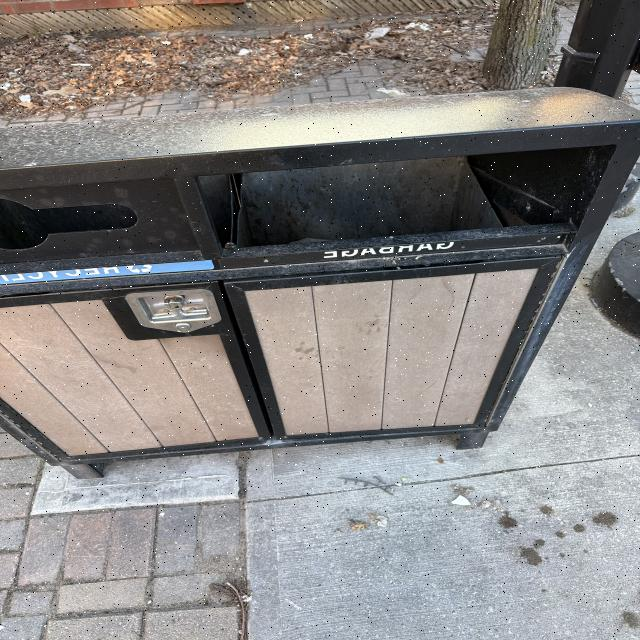Dustbin: (0, 89, 638, 484)
